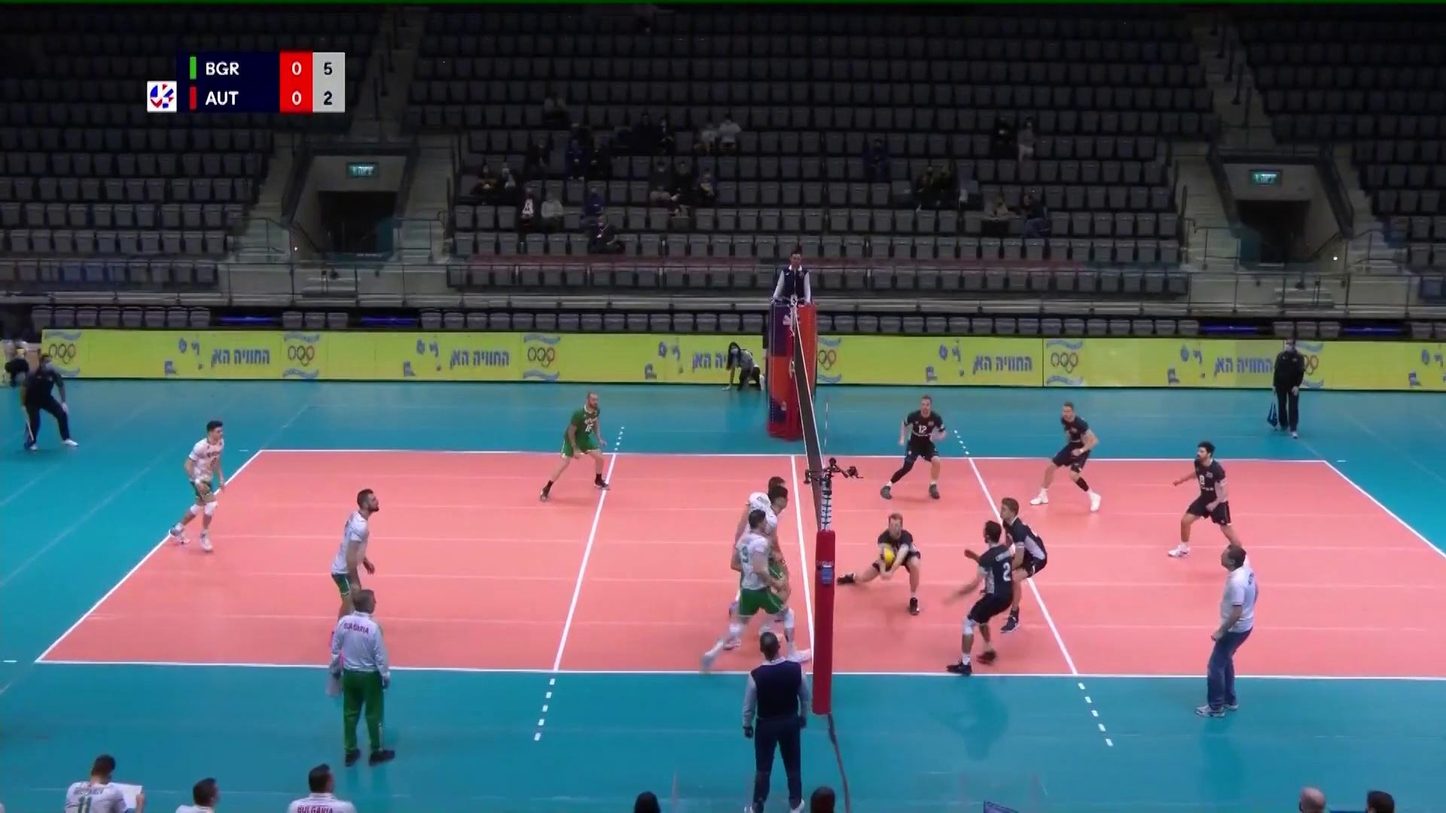ball: (880, 546, 895, 563)
